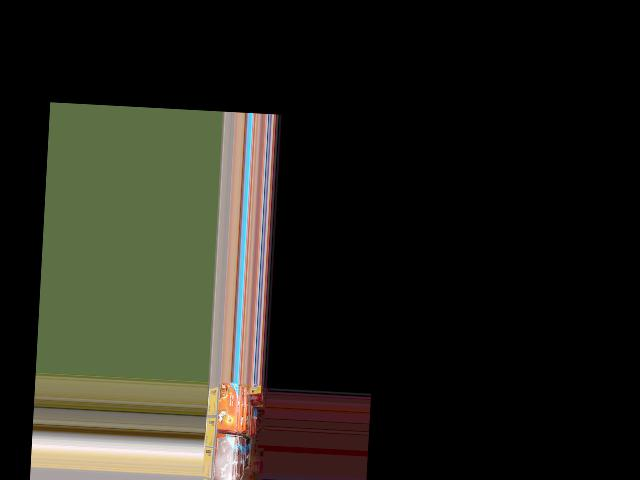chocolate: (208, 437, 237, 480)
